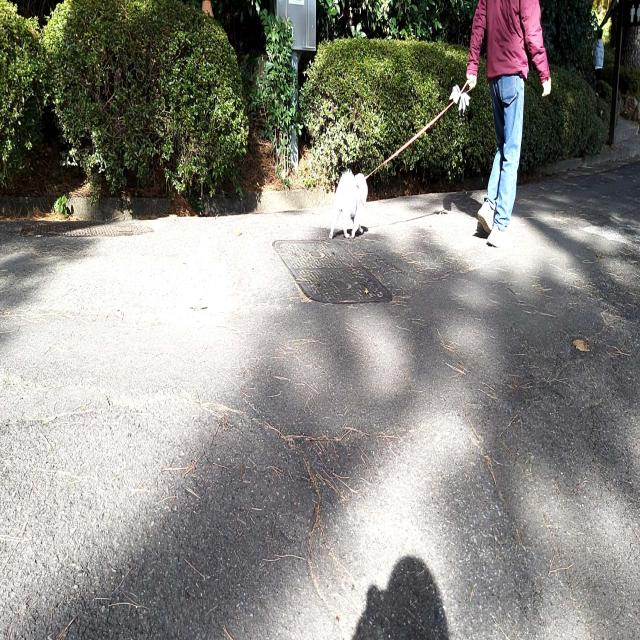Leashed_Dog: (329, 75, 508, 239)
